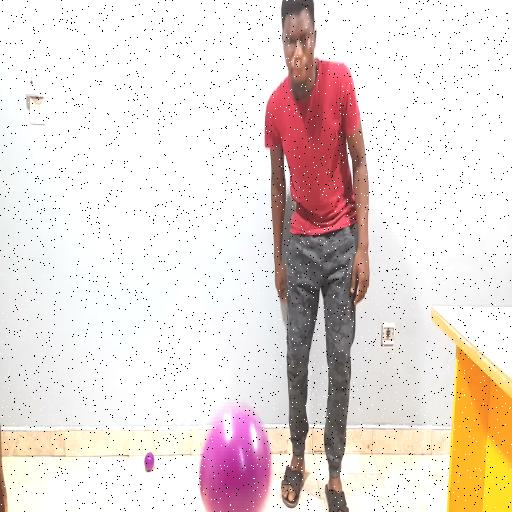plastic-ball: (200, 407, 271, 511)
